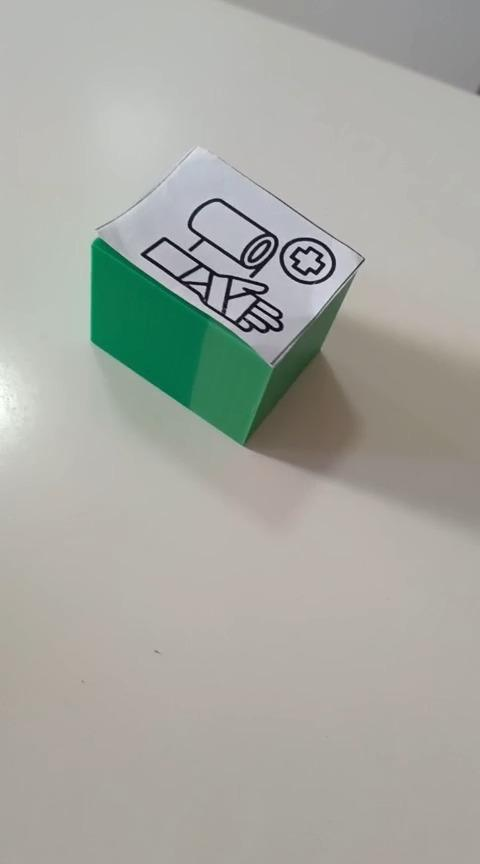Bandages: (88, 143, 365, 446)
